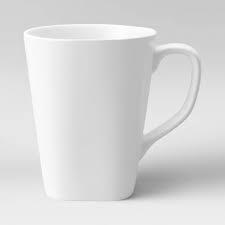Mug: (13, 13, 215, 208)
